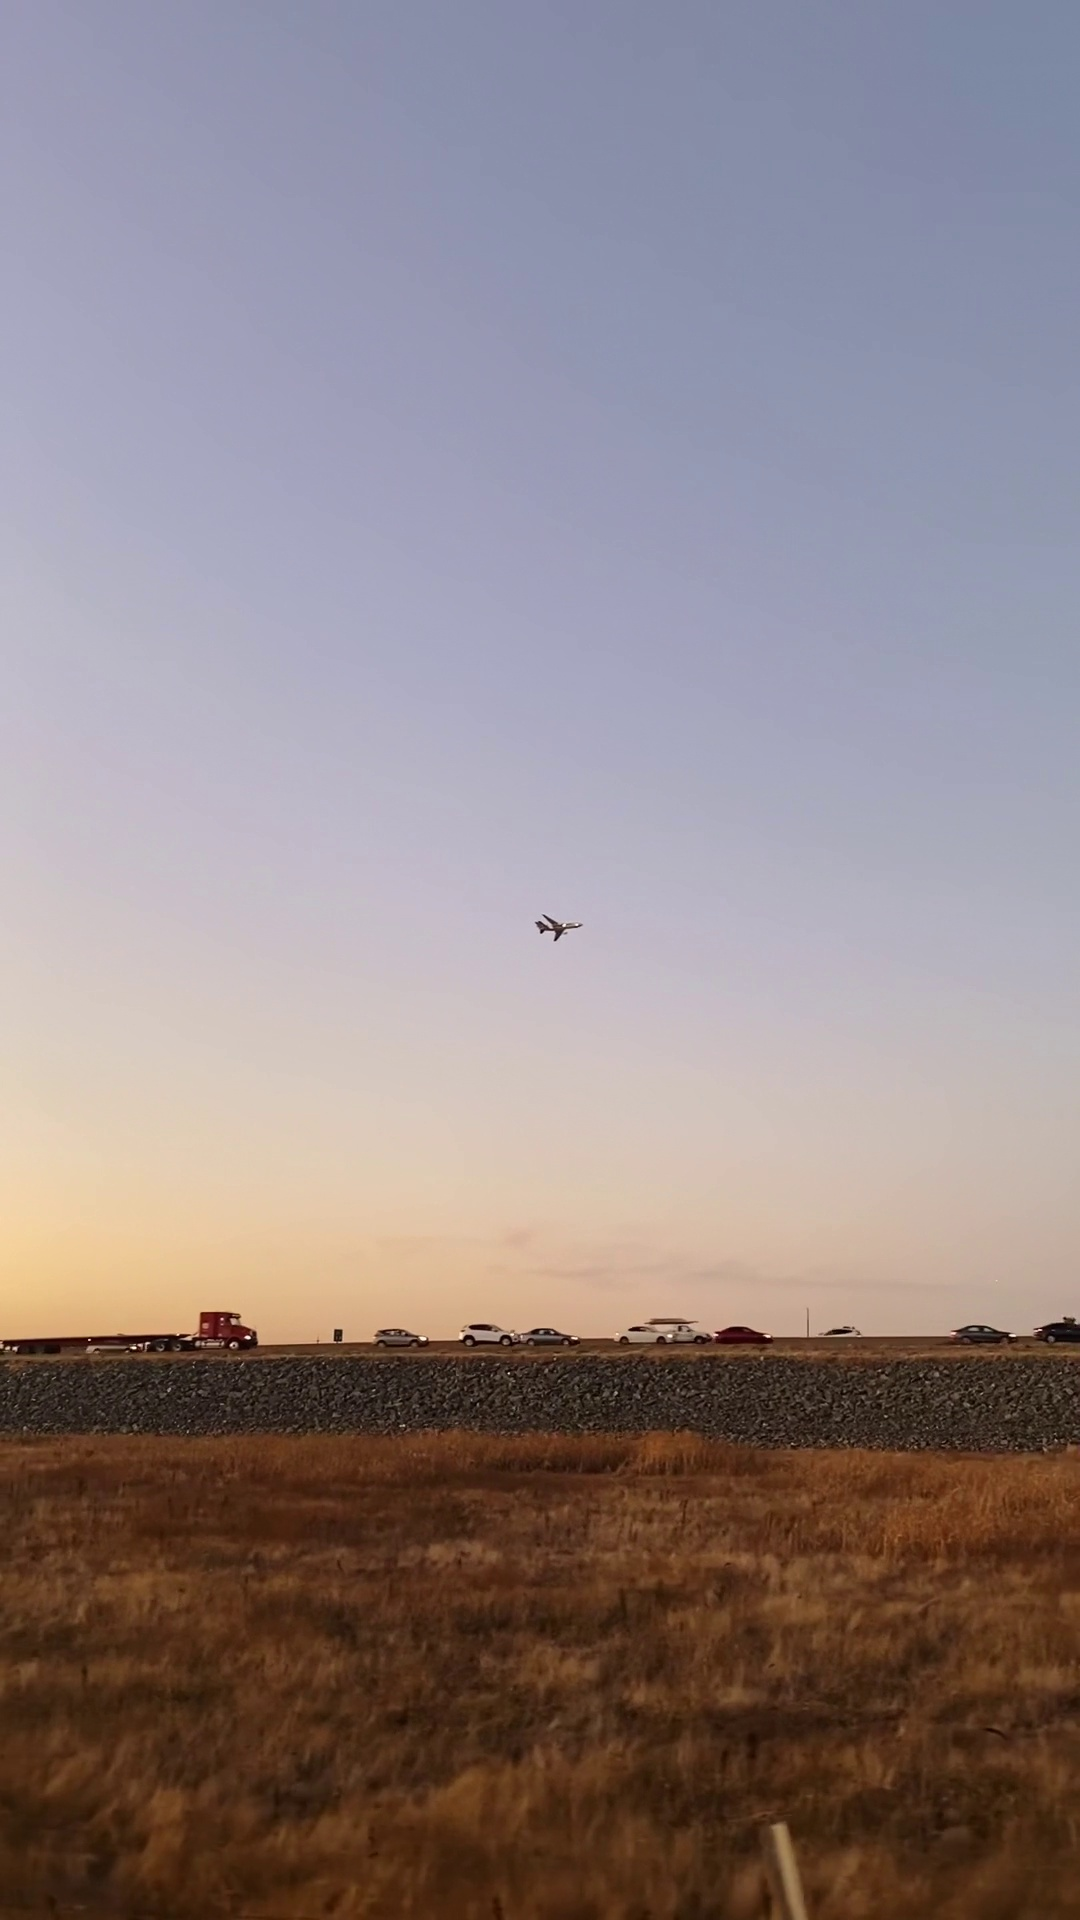plane: (535, 911, 584, 942)
